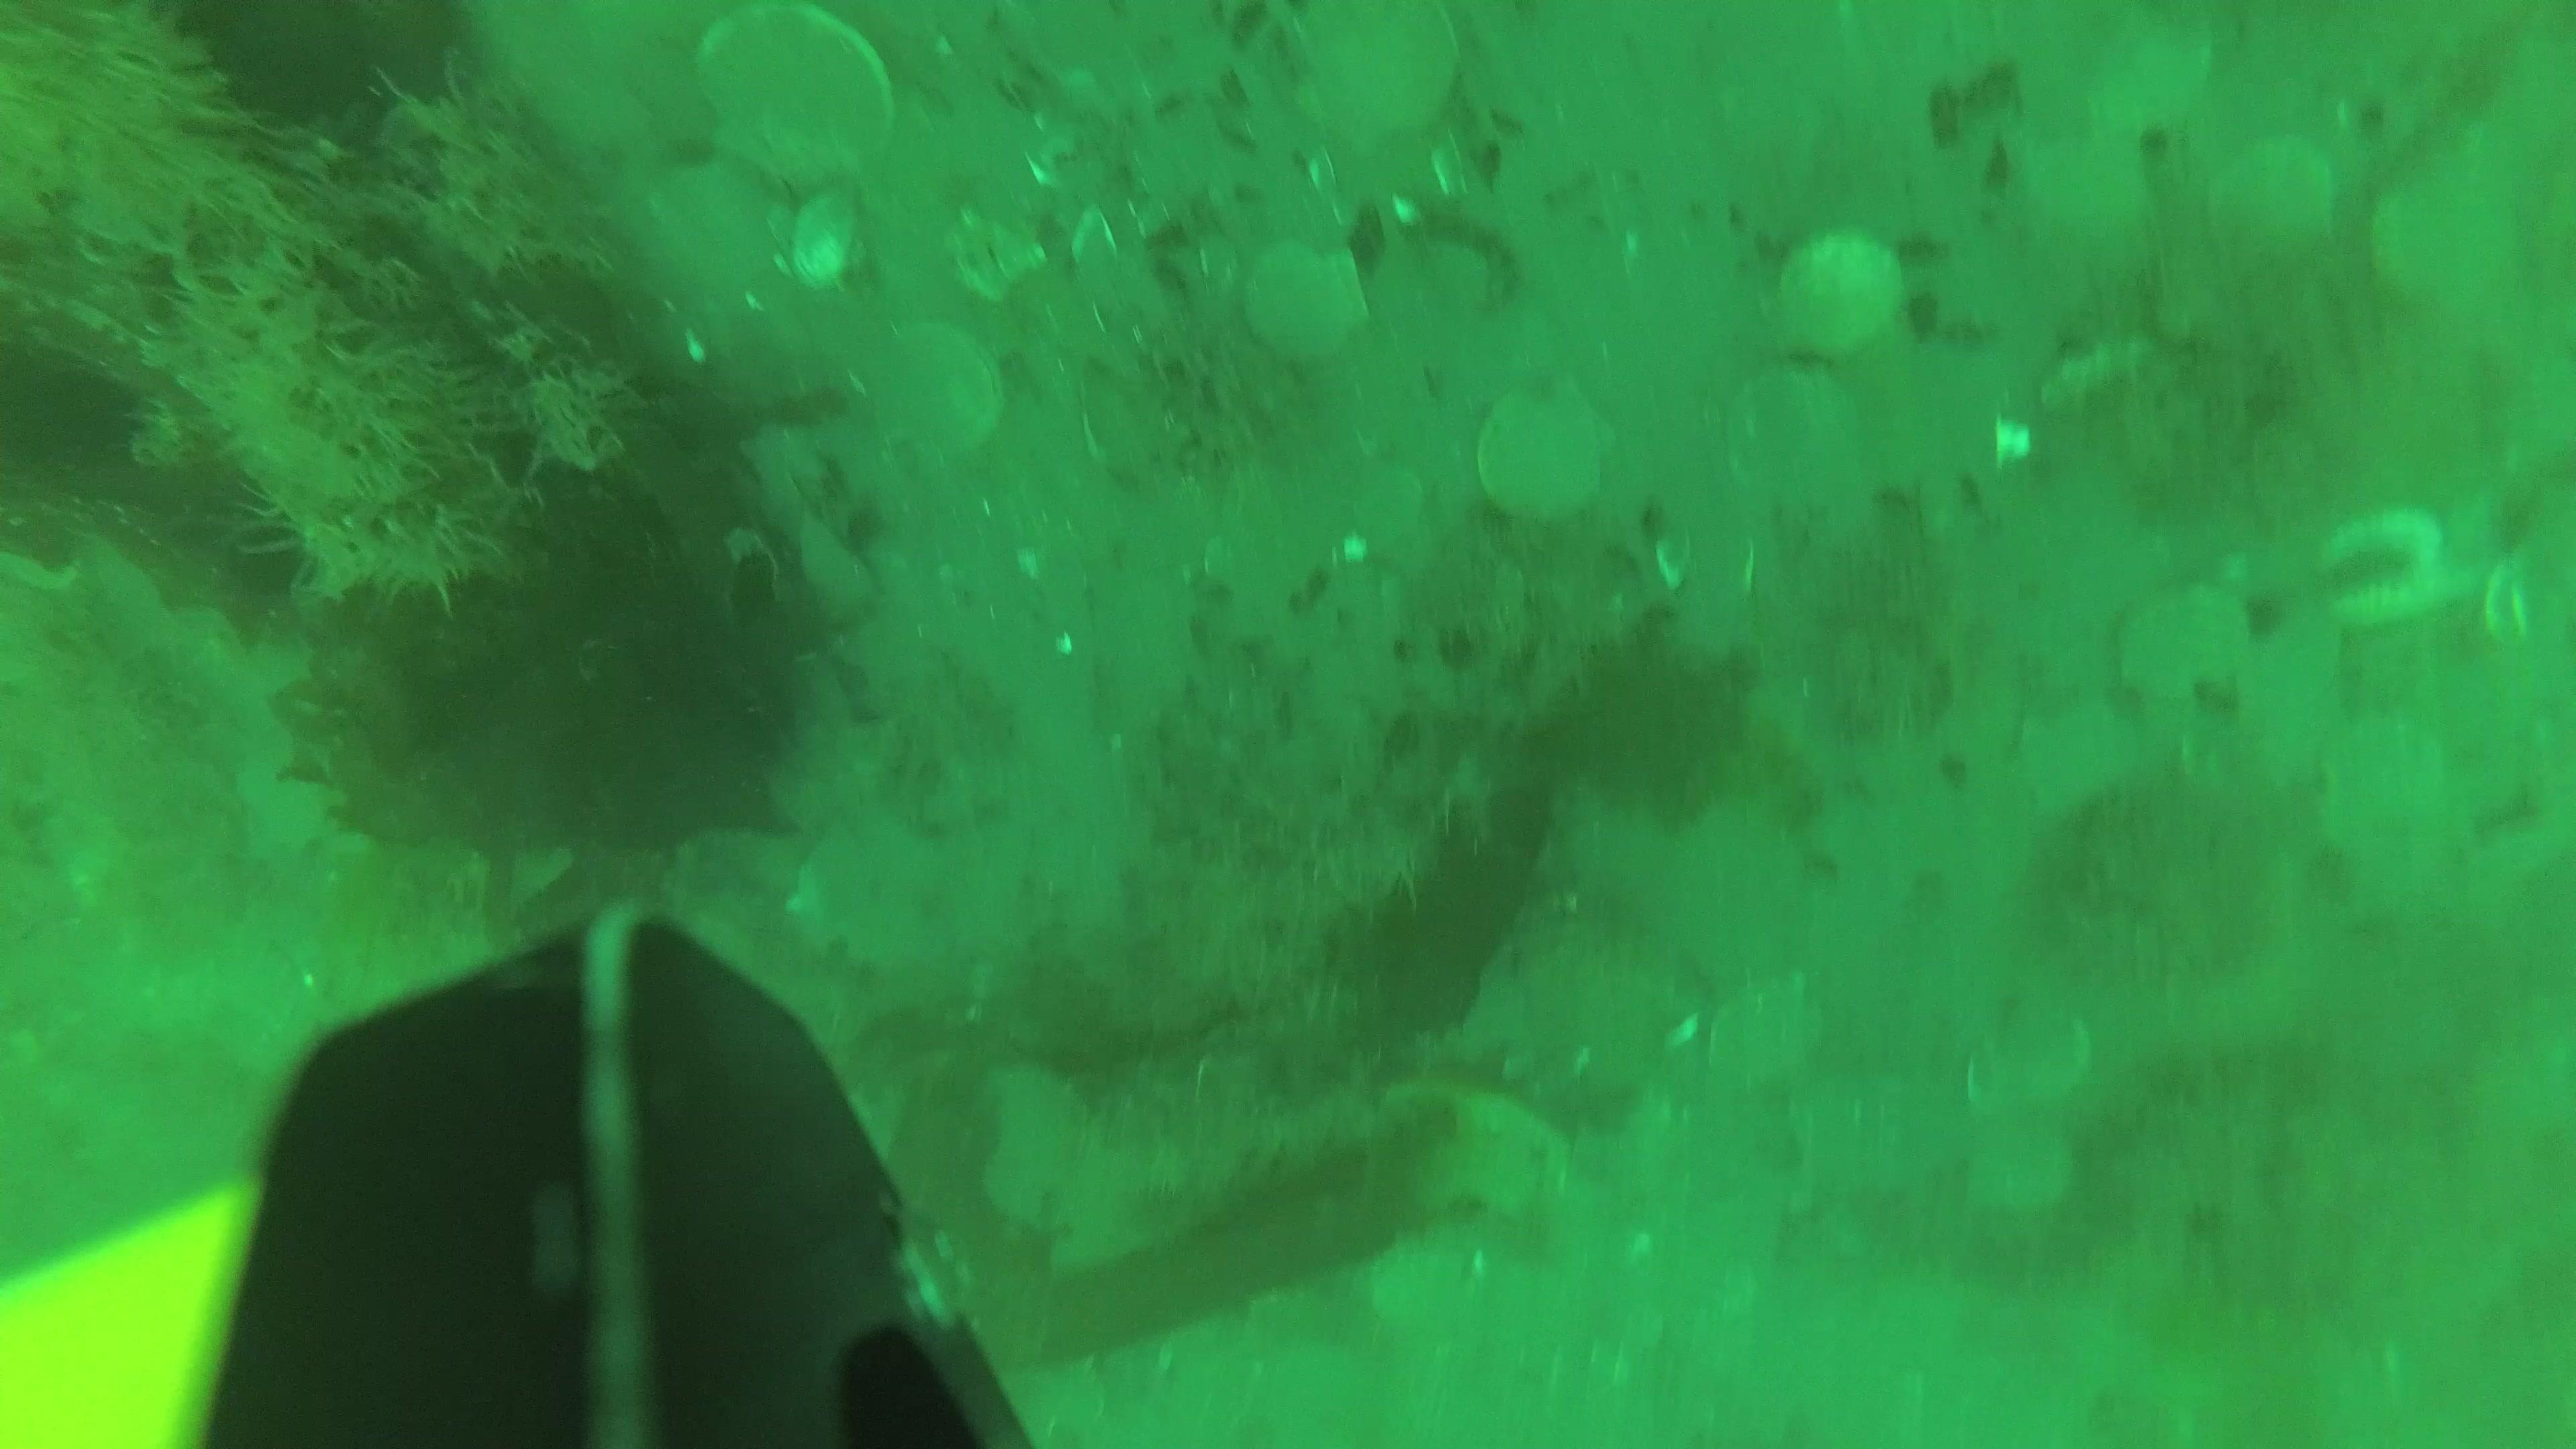scallop: (697, 7, 899, 173), (1281, 4, 1470, 161), (863, 317, 1001, 472), (2374, 177, 2525, 311), (1237, 237, 1384, 373), (1486, 375, 1615, 525), (2318, 722, 2452, 860), (1785, 234, 1921, 356), (1789, 1074, 1927, 1194), (2109, 579, 2254, 692), (1962, 1010, 2097, 1122), (2334, 517, 2463, 628), (1707, 973, 1829, 1088), (2022, 702, 2141, 816), (2219, 143, 2335, 255), (1962, 1123, 2072, 1226)
